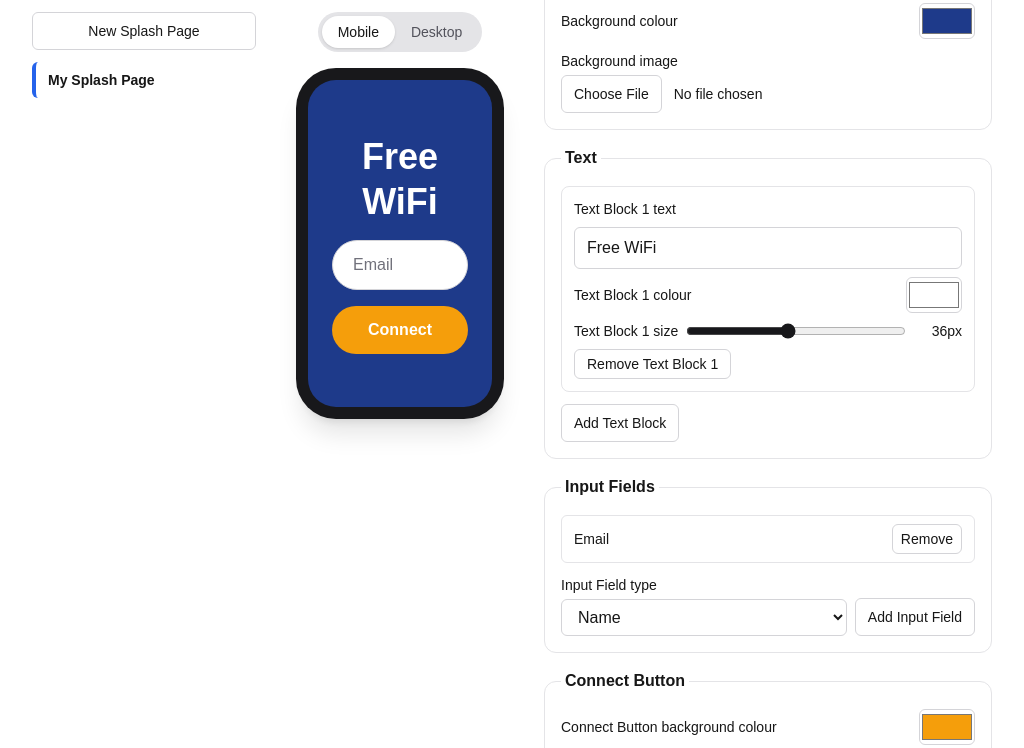
Test: Captivator: Editor and Preview › removing the only Text Block removes it from the Preview
(page scrolled)
Click the button "Remove Text Block 1".
click(653, 364)  # box [574,349,731,379]
(page scrolled)
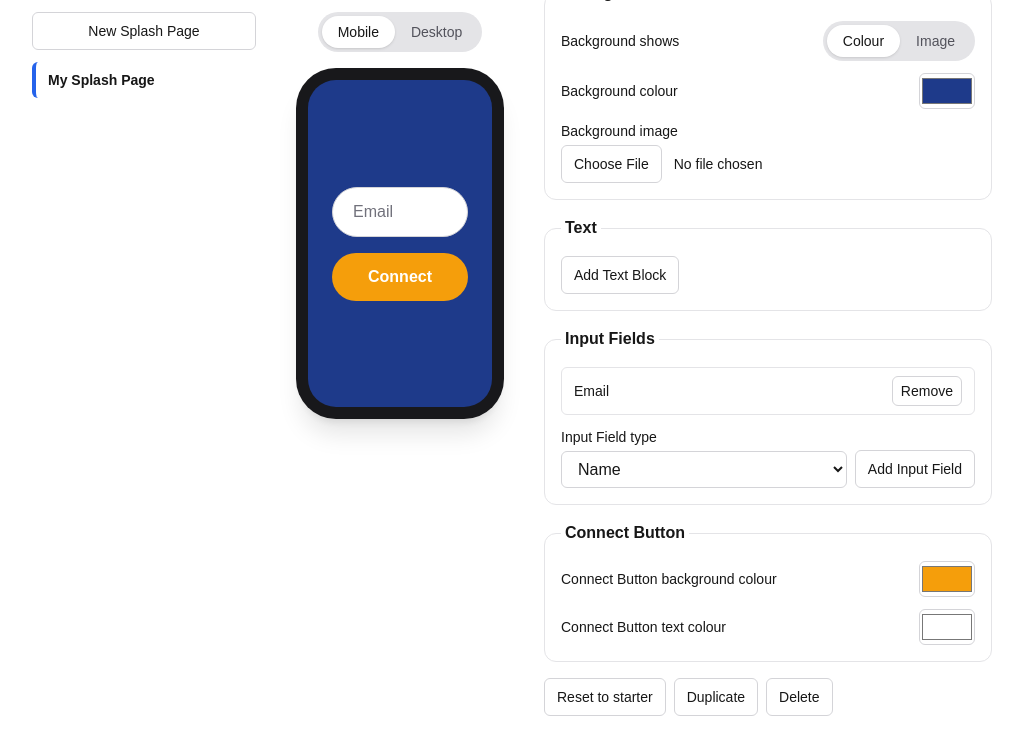
Now the text "Free WiFi" is gone
Now the label "Text Block 1 text" is gone
